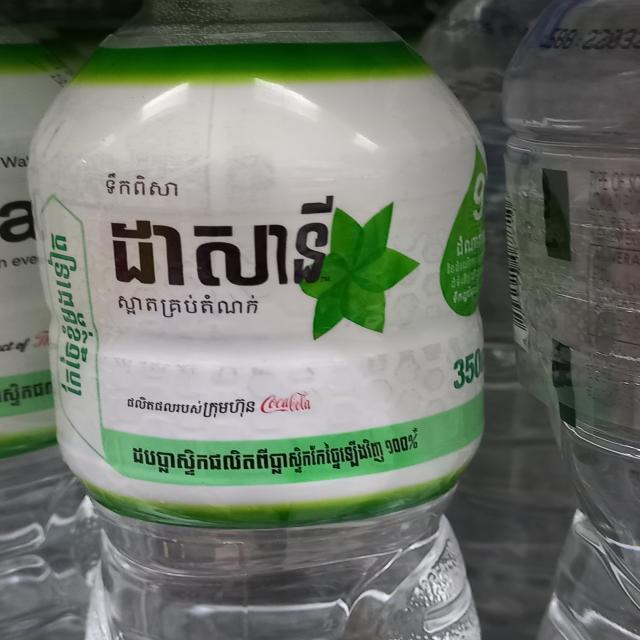1: (128, 423, 424, 482)
727: (452, 346, 485, 392)
Yolov11_80vkh: (105, 189, 347, 288), (40, 228, 100, 401), (117, 386, 257, 419), (115, 291, 263, 320), (100, 167, 192, 202)
